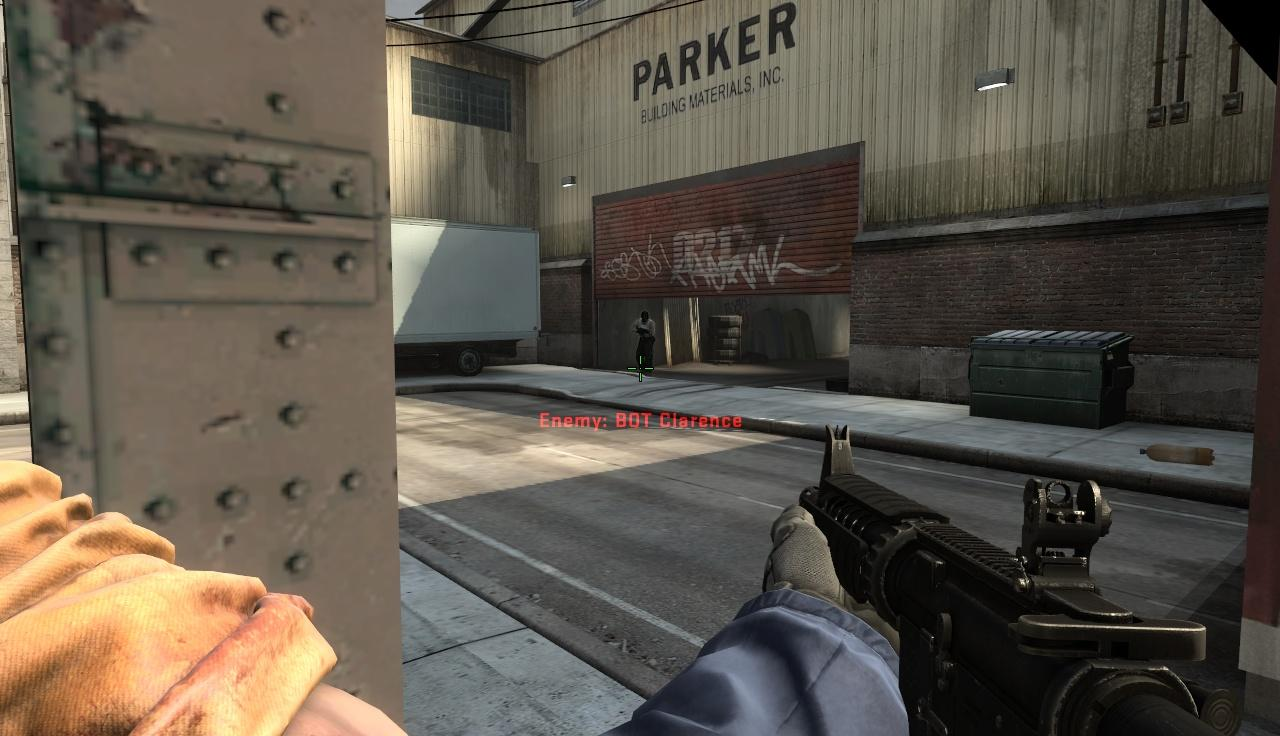rifle: (757, 426, 1240, 736)
tt: (631, 311, 656, 376)
tthead: (641, 311, 649, 324)
